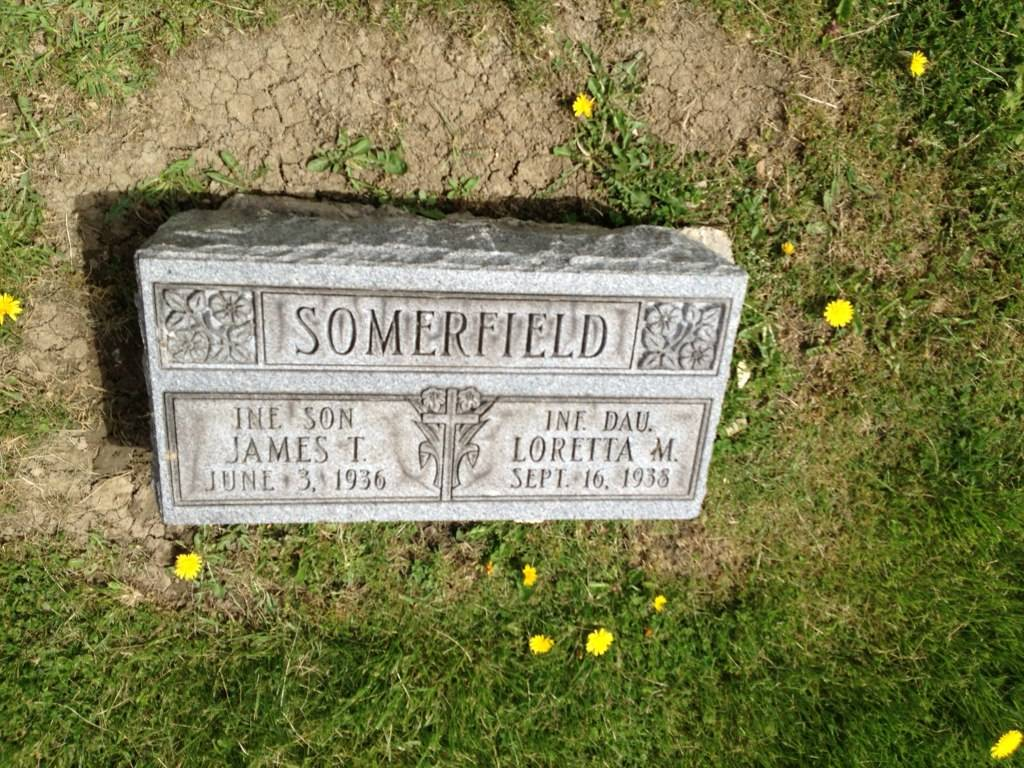flat: (136, 202, 749, 529)
